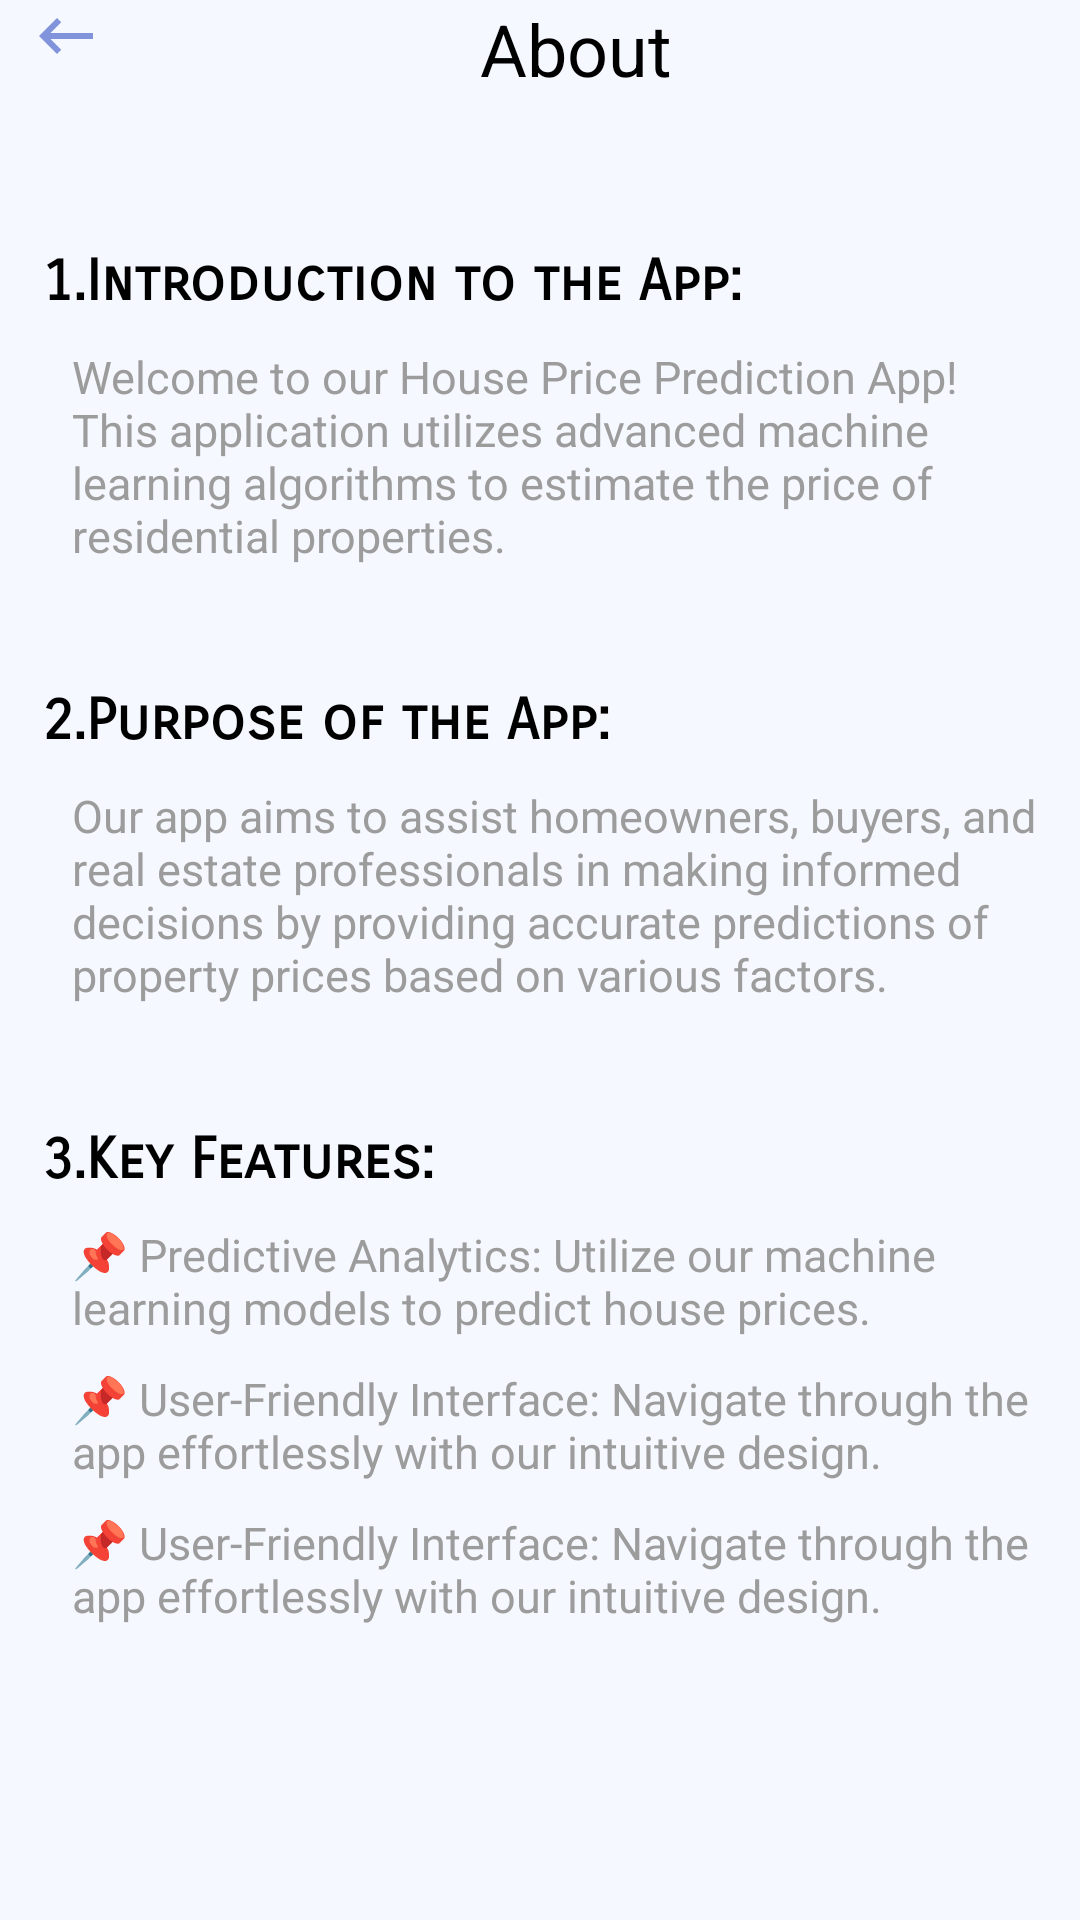

Locate icon controls on the screen. Image size 1080px×1920px, boxes as (x1, y1, x2, y2).
keyboard backspace: (39, 18, 93, 54)
